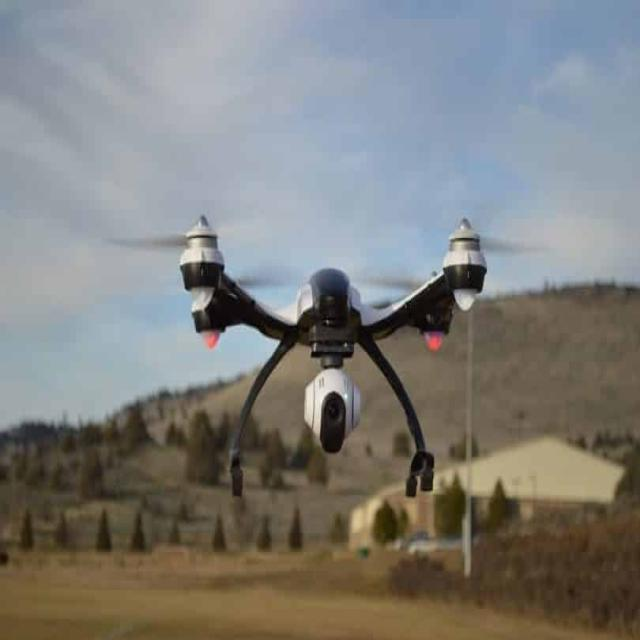drone: (101, 209, 550, 500)
